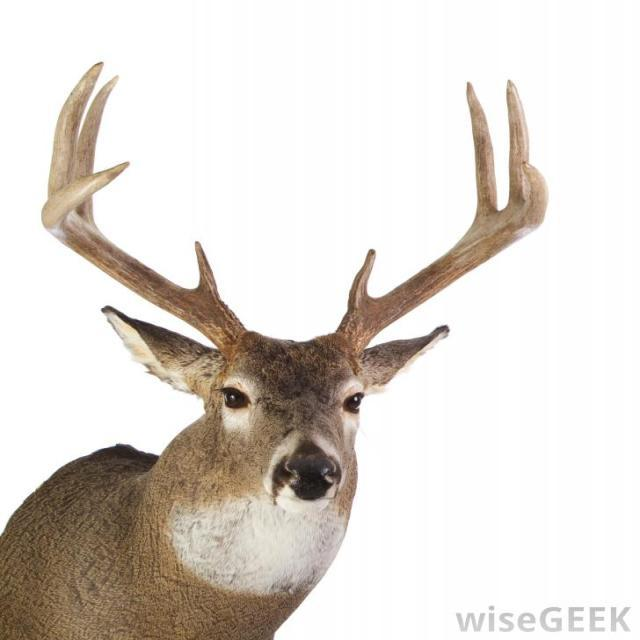L-G1: (348, 249, 376, 313)
L-G2: (466, 81, 499, 220)
R-F: (321, 161, 550, 362), (41, 161, 249, 359)
R-G1: (194, 241, 222, 302)
